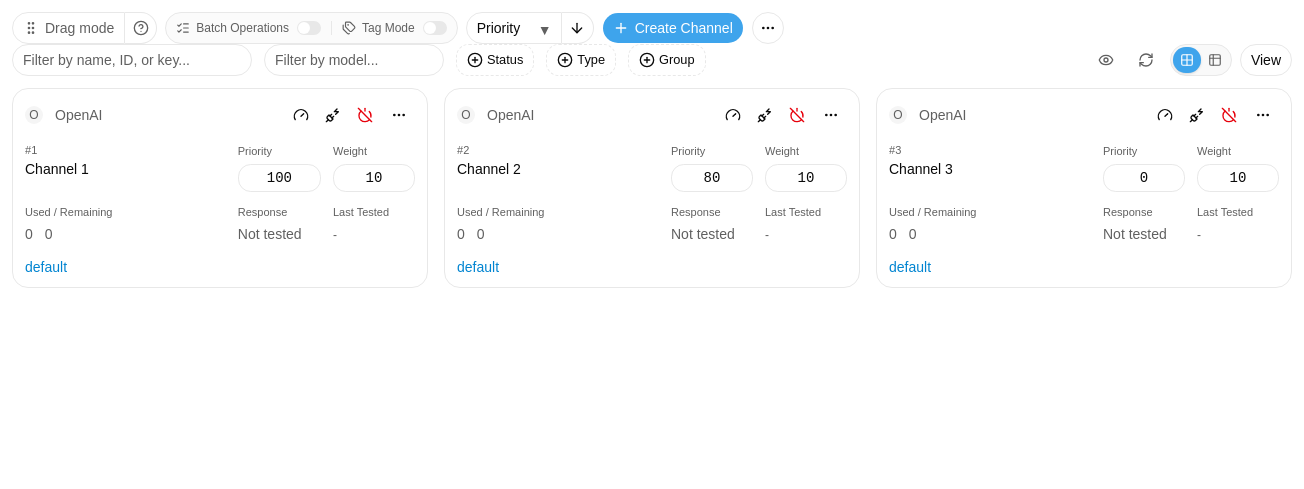
it: mobile search and view controls stay available together
This screenshot has width=1304, height=489.
Expected: the button "Drag mode" is shown, [12,12,125,44]
Expected: the field with placeholder "Filter by name, ID, or key..." is shown, [12,44,252,76]
What coordinates should you click on to do the following:
click the button named "Table view"
I would click on:
 (1215, 60)
Its box is [1201,47,1229,73].
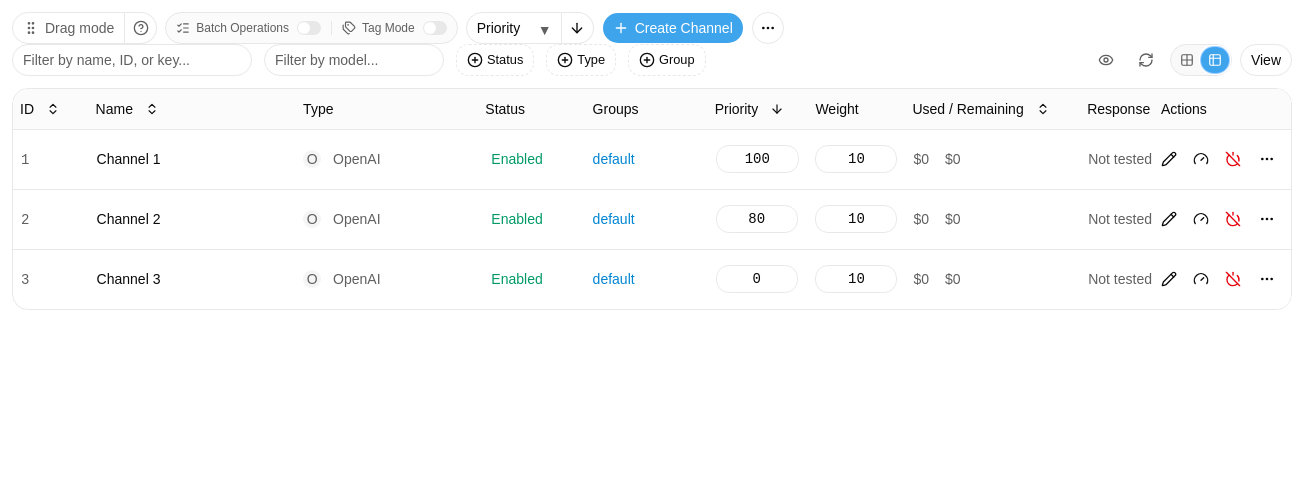
Expected: the table is shown, [13,89,1291,309]
What coordinates should you click on to do the following:
click the button "View"
I would click on:
 (1266, 60)
Its box is [1240,44,1292,76].
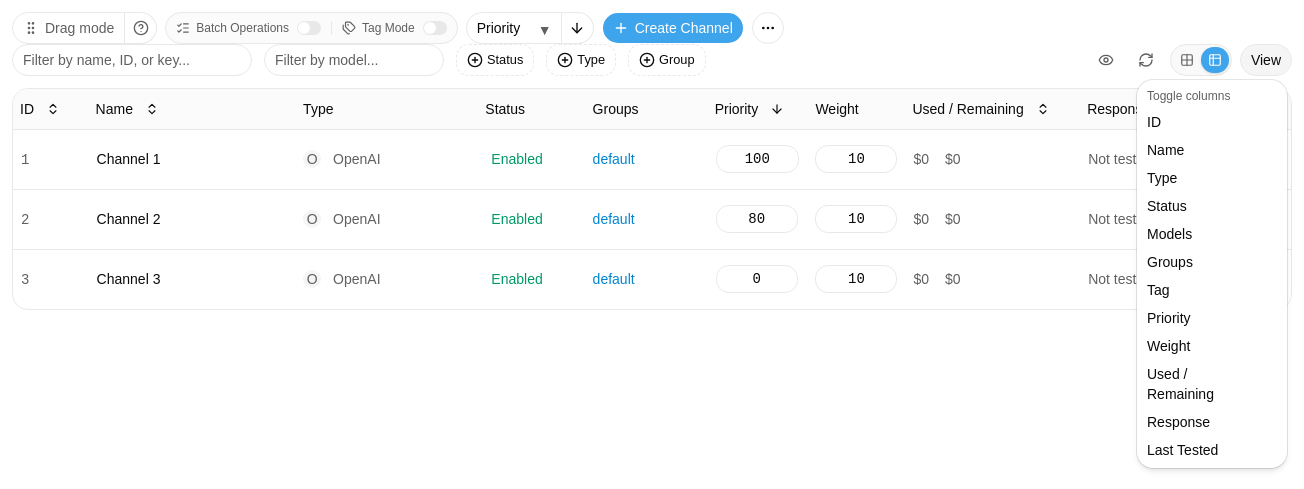
Expected: the menu item "Weight" is shown, [1147,338,1190,354]
